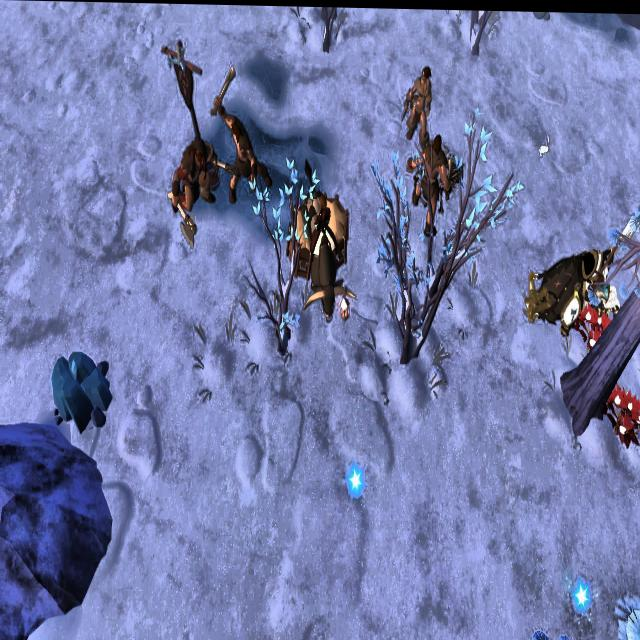enemy_factionKeeper: (212, 56, 267, 198), (170, 133, 218, 237), (408, 129, 451, 223), (403, 62, 431, 145)
fiber_t5: (603, 381, 640, 446), (580, 305, 614, 349)
rock_t4: (48, 346, 110, 429)
